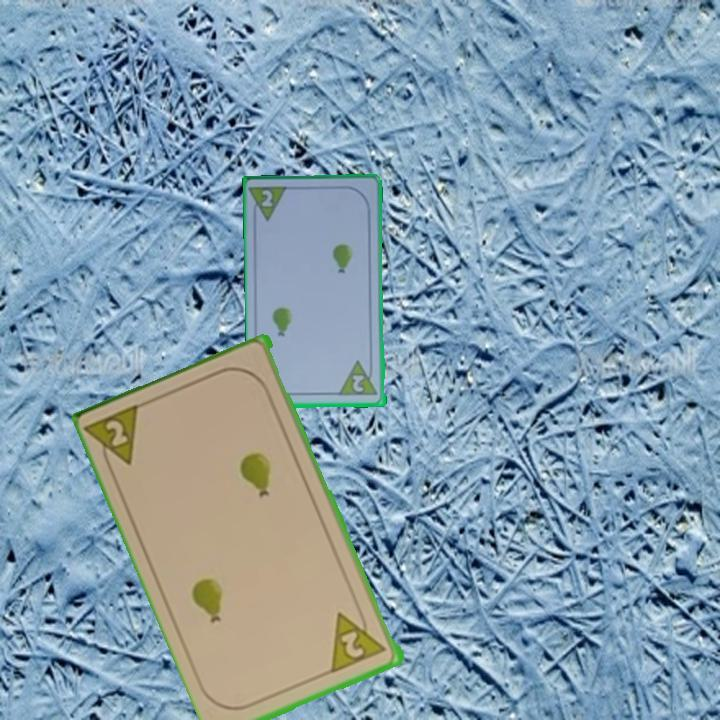2p: (84, 400, 146, 477), (328, 603, 391, 676), (337, 358, 381, 399), (258, 186, 276, 210)
